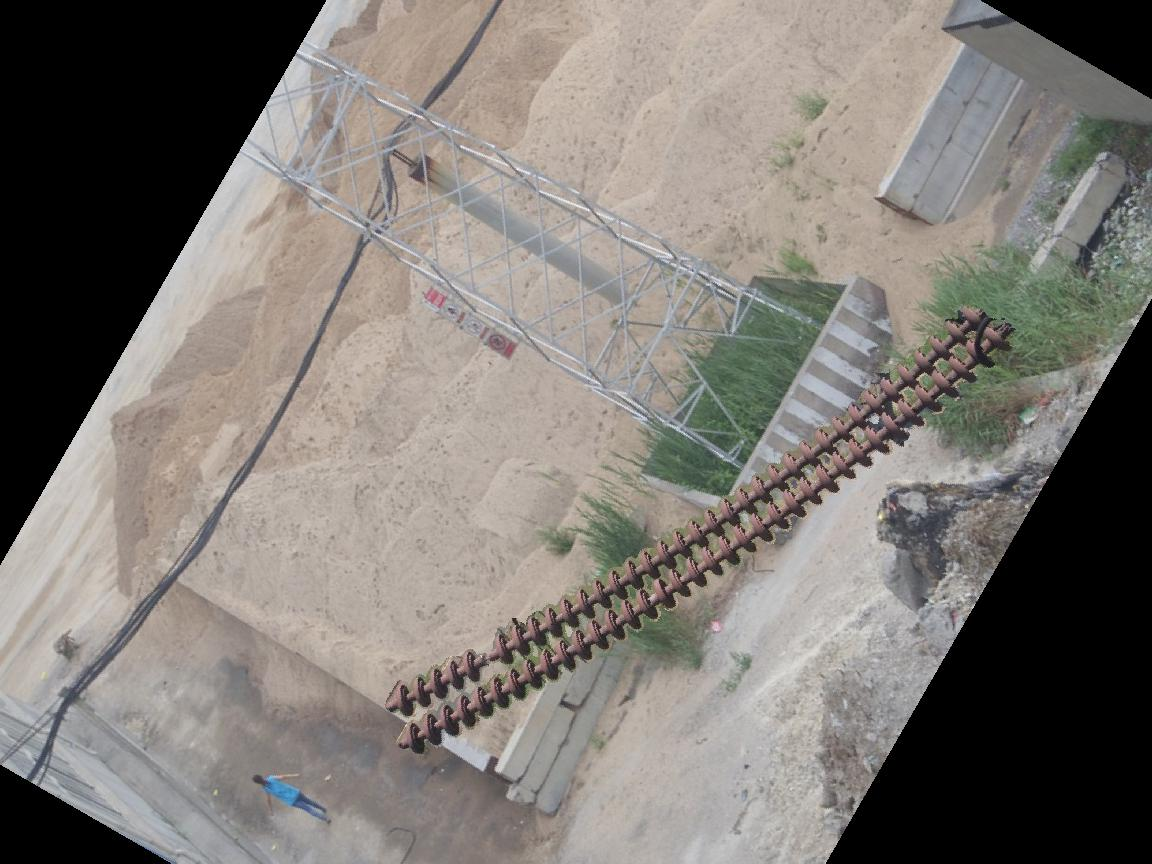insulator: (382, 300, 1017, 755)
insulator_stringdrop: (458, 628, 516, 684)
